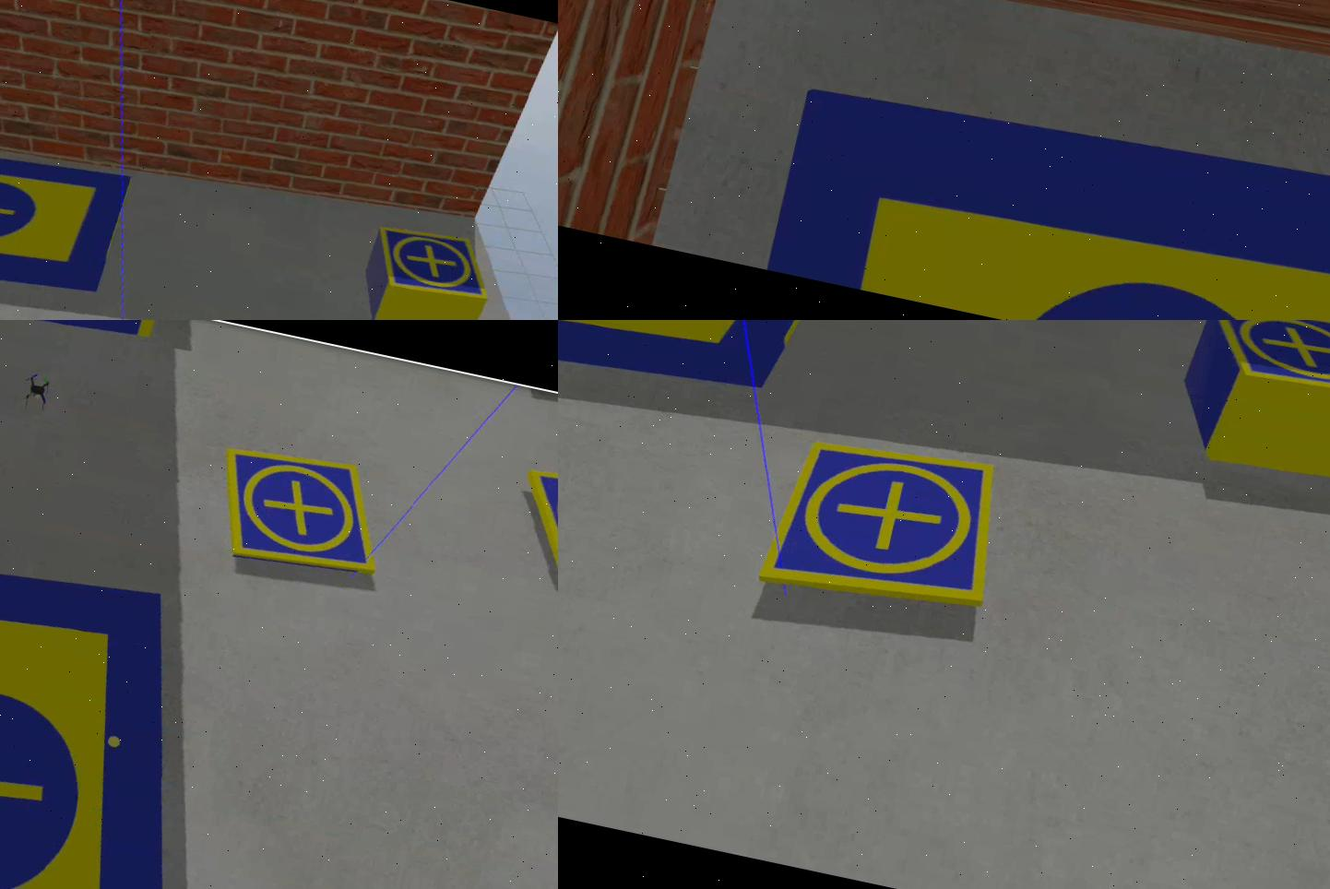large_base: (766, 60, 1330, 321), (1, 527, 270, 889), (1, 109, 131, 321), (559, 321, 840, 407)
small_base: (766, 425, 1012, 627), (208, 442, 399, 587), (369, 219, 504, 308), (1199, 321, 1330, 409), (515, 462, 559, 606)
